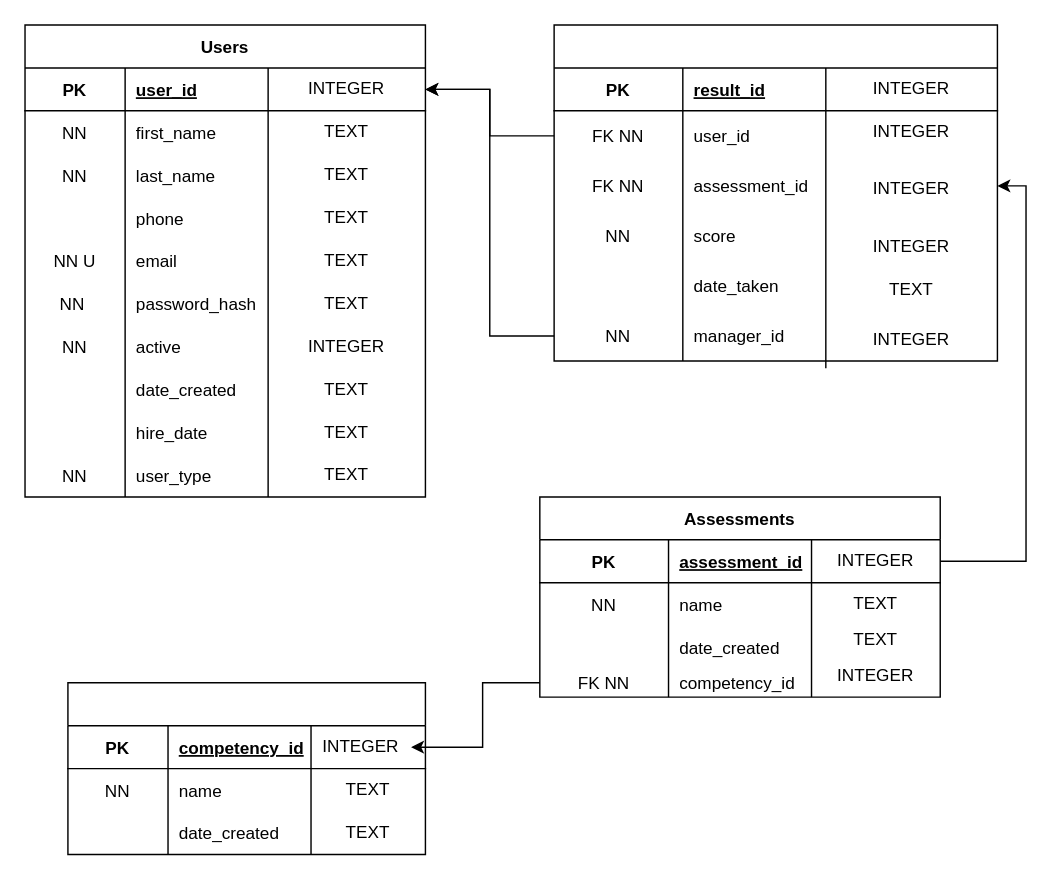
Some shapes in this 1062 by 881 pixel diagram are drawn without their labels. The shapes that lost their labels are listed below. From the top down, each one's box as (x1, y1, x2, y2) in pixels, then its label:
(553, 24, 997, 361): Assessment_Results
(66, 681, 425, 854): Competencies
